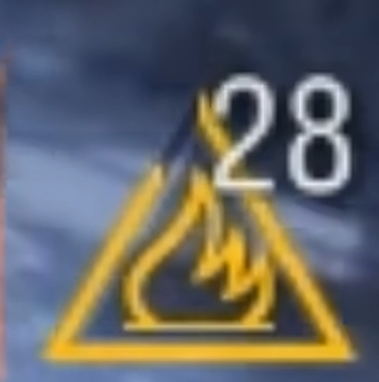1fire: (20, 193, 367, 365)
